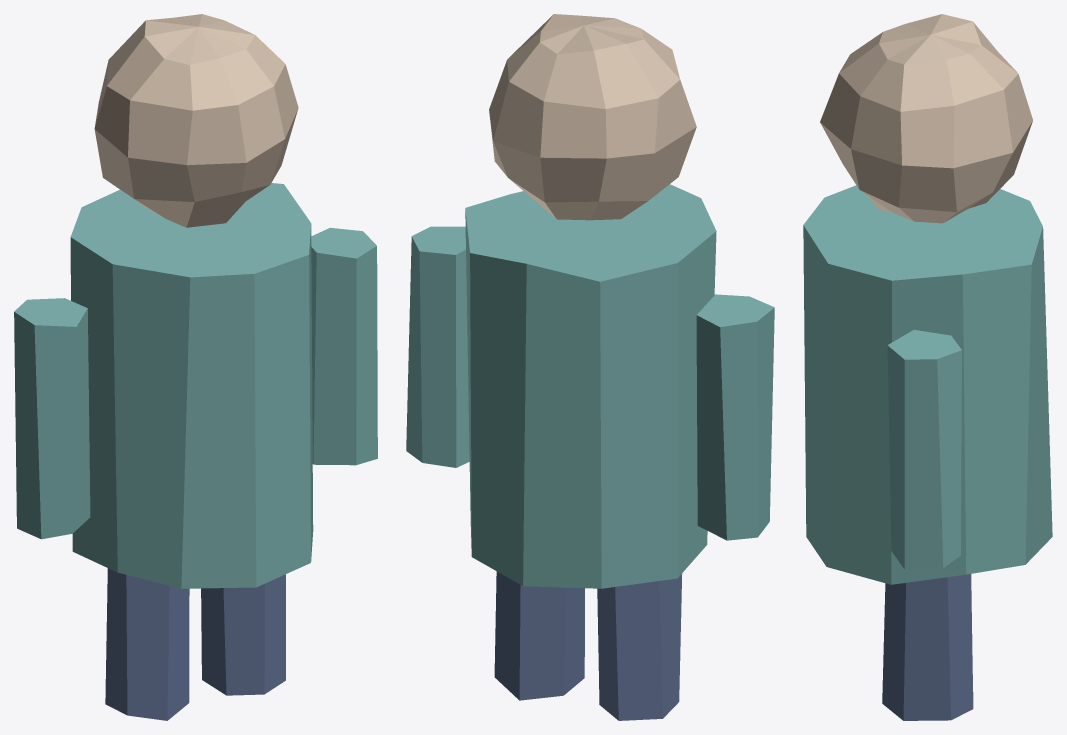
Rendered from guestfigure.fbx.
3 views of the same model, side by side, from view 1: azimuth 30°, elevation 25°; view 2: azimuth 150°, elevation 25°; view 3: azimuth 270°, elevation 25° (orthographic). The views are drawn at different scales.
Parts seen in each view (by area): view 1: GuestFigure; view 2: GuestFigure; view 3: GuestFigure.
Boxes of the visible parts, left/top/right/bottom form: GuestFigure: left=14, top=14, right=377, bottom=720; GuestFigure: left=406, top=14, right=774, bottom=720; GuestFigure: left=803, top=14, right=1052, bottom=720.
Bounding box in the file's own units: 0.6503 × 1.19 × 0.4096.
